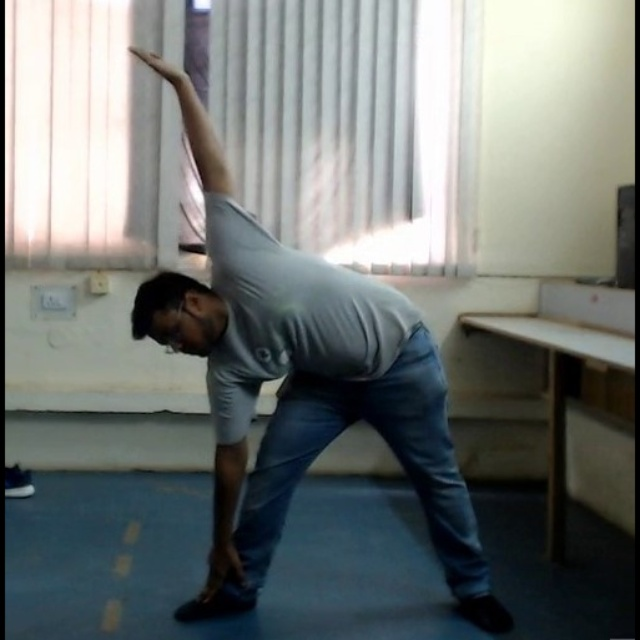Triangle_Pose: (113, 34, 525, 629)
